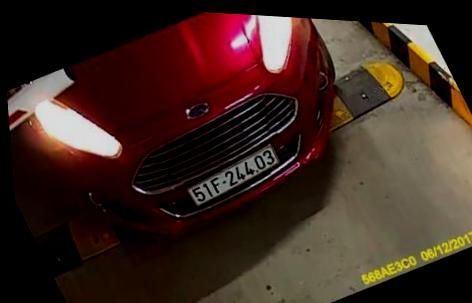License_Plate: (184, 140, 290, 221)
